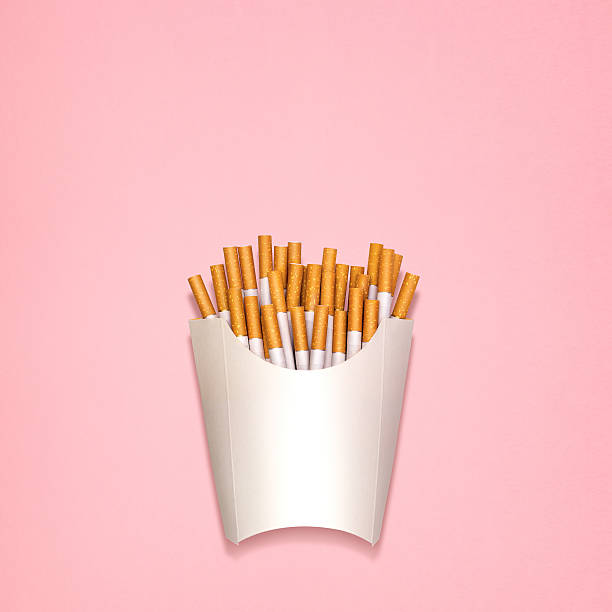cigarette: (266, 269, 297, 369), (222, 243, 249, 349), (260, 303, 288, 367), (389, 270, 421, 320), (244, 294, 267, 362), (207, 261, 231, 326), (289, 306, 312, 370), (309, 304, 330, 371), (317, 246, 337, 315), (188, 273, 217, 320), (345, 287, 363, 358), (256, 234, 274, 302), (237, 242, 259, 295), (365, 241, 385, 299), (301, 261, 323, 312), (330, 309, 349, 366), (375, 247, 395, 297), (361, 299, 380, 346), (286, 262, 305, 305), (335, 262, 351, 307), (272, 244, 290, 272), (353, 272, 371, 298), (349, 265, 366, 286), (288, 239, 303, 262), (393, 252, 405, 270)
